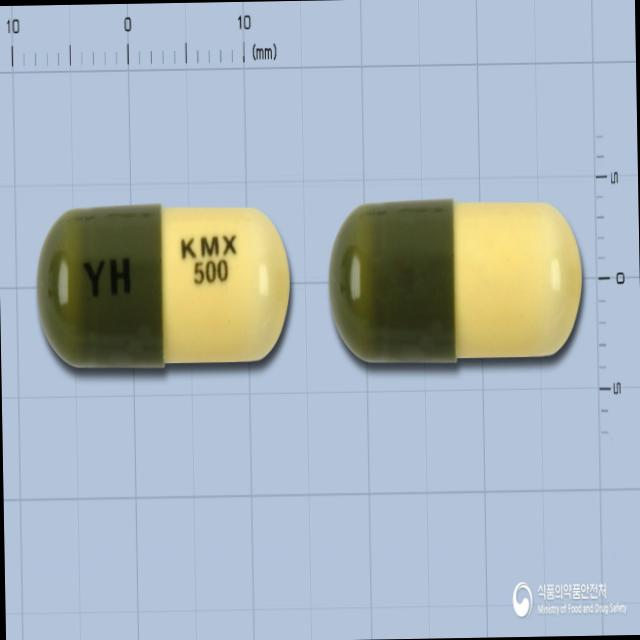Kymoxin Cap-500mg: (35, 202, 291, 370)
